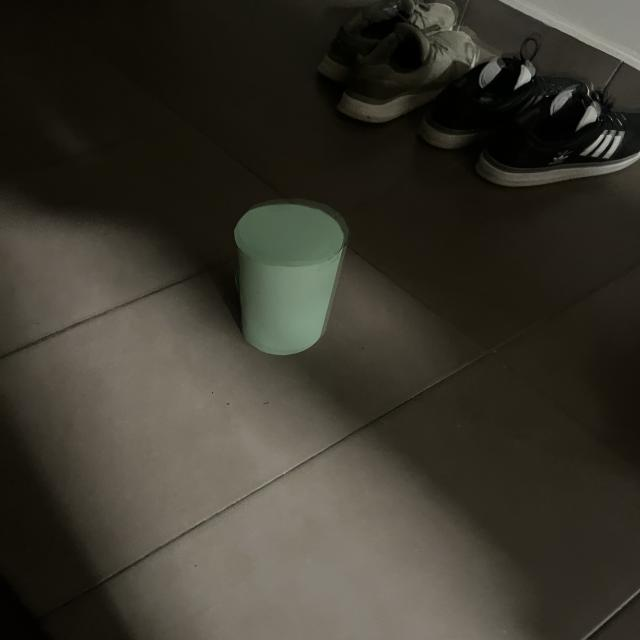meta: (234, 199, 349, 355)
